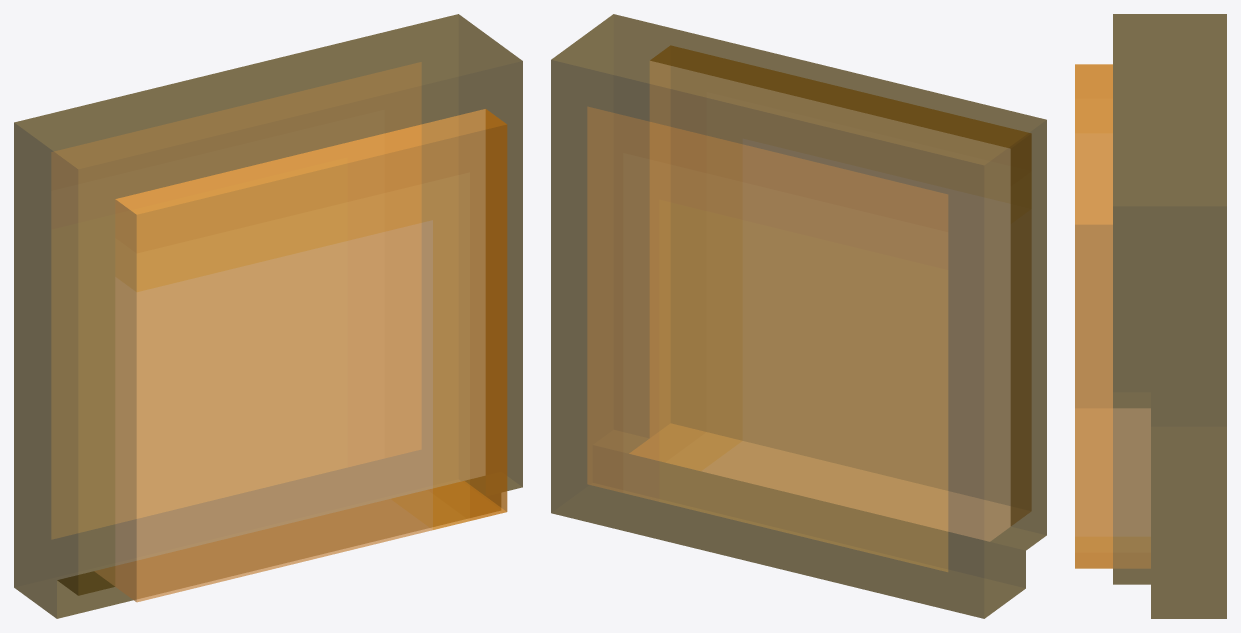
The model's file is screen_orange.glb.
3 views of the same model, side by side, from view 1: azimuth 30°, elevation 25°; view 2: azimuth 150°, elevation 25°; view 3: azimuth 270°, elevation 25° (orthographic). The views are drawn at different scales.
Visible parts, largest first — view 1: bb0 screen; view 2: bb0 screen; view 3: bb0 screen.
Boxes of the visible parts, x1,y1,x2,y2 form: bb0 screen: (14,14,522,618); bb0 screen: (551,14,1046,618); bb0 screen: (1075,14,1226,618).
Size of the model in its own units: 12 by 12 by 4.
